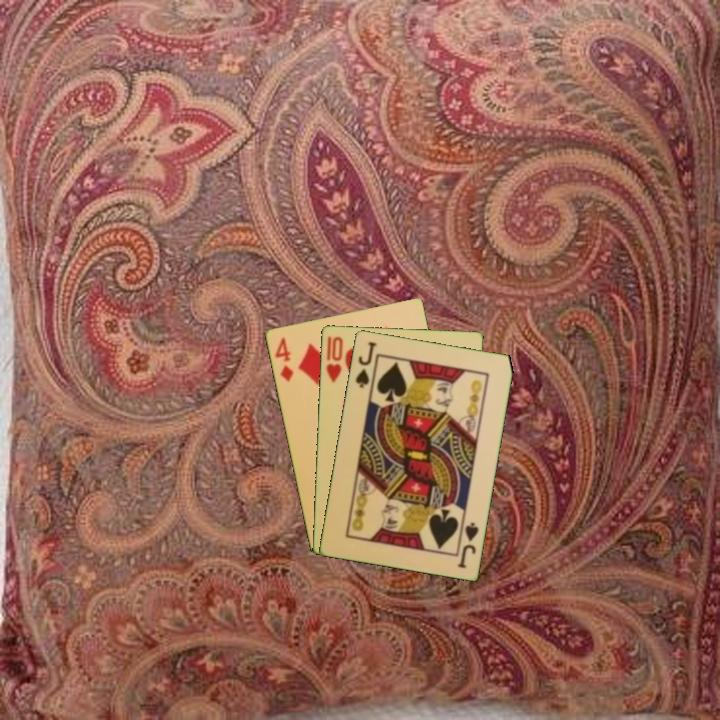10h: (323, 333, 346, 385)
4d: (271, 334, 296, 384)
Js: (454, 518, 481, 571), (352, 338, 379, 390)
